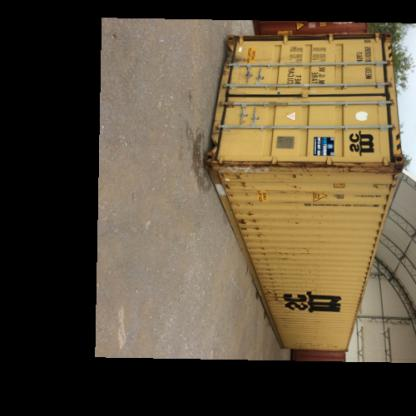Damage: (204, 148, 412, 178), (244, 178, 282, 300), (219, 31, 242, 86), (288, 165, 308, 205)
